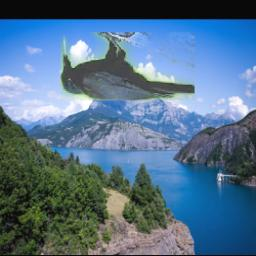Crow: (61, 32, 196, 100)
